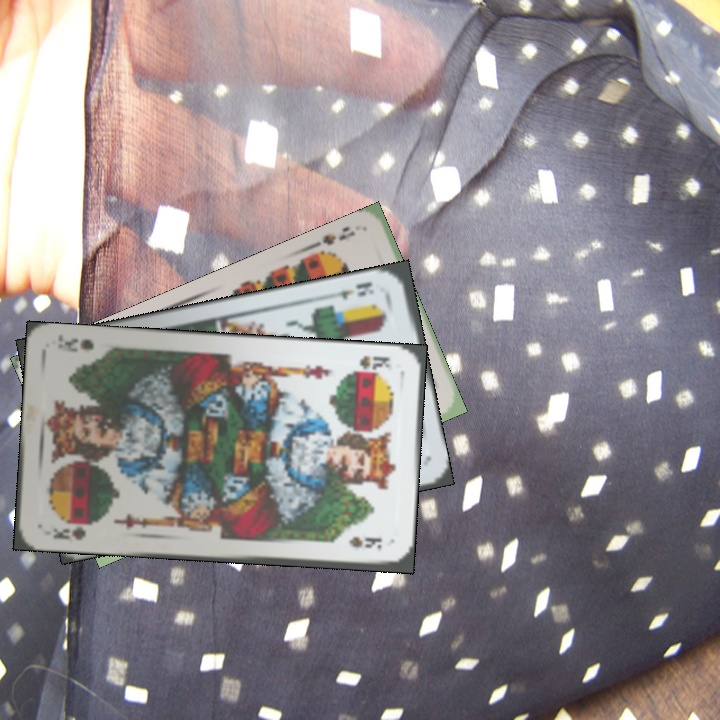EK: (328, 278, 377, 302)
S9: (304, 222, 358, 263)
SK: (48, 522, 89, 543), (355, 351, 393, 372)
